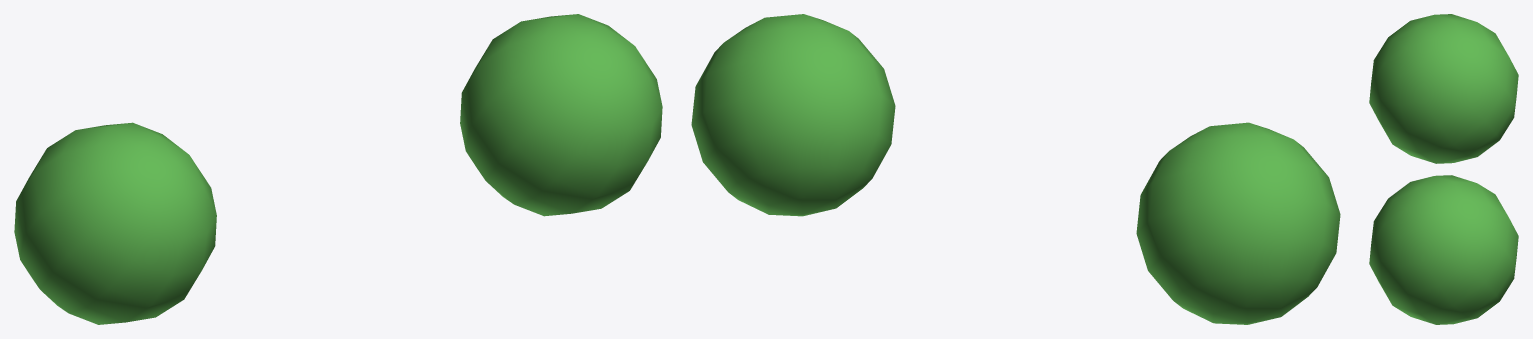
File: linfatico-apical-axillary-nodes-l.glb
3 renders of one model, left to right at view 1: azimuth 30°, elevation 25°; view 2: azimuth 150°, elevation 25°; view 3: azimuth 270°, elevation 25°, orthographic. The views are drawn at different scales.
Visible parts, largest first — view 1: Apical axillary nodes.l; view 2: Apical axillary nodes.l; view 3: Apical axillary nodes.l.
Boxes of the visible parts, x1=… form: Apical axillary nodes.l: x1=14, y1=14, x2=662, y2=324; Apical axillary nodes.l: x1=691, y1=14, x2=1340, y2=324; Apical axillary nodes.l: x1=1369, y1=14, x2=1518, y2=324.
Bounding box in the file's own units: 0.00911 × 0.00258 × 0.00256.
